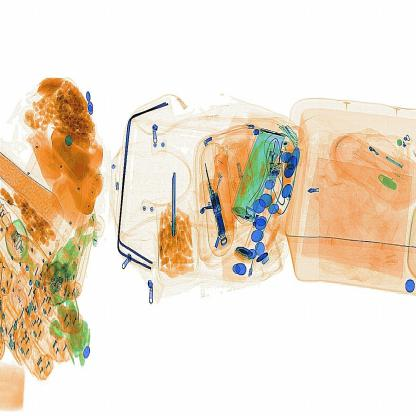pliers: (164, 161, 189, 242)
